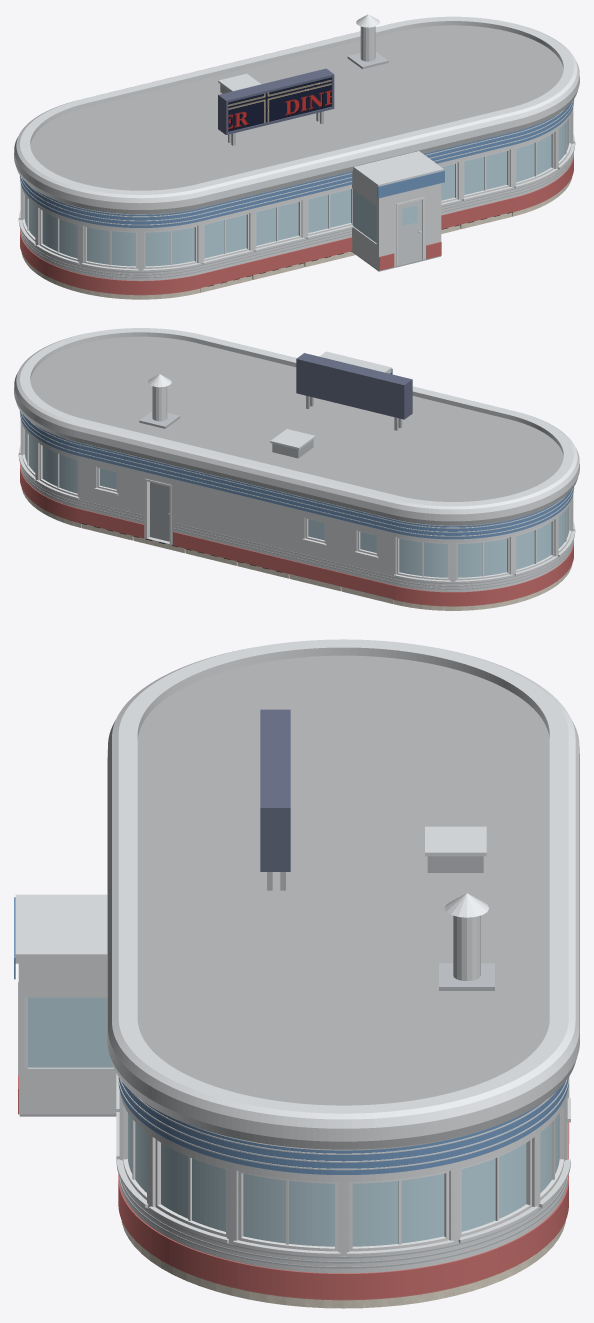
The model's file is building_assembled.glb.
3 views of the same model, one above another, from view 1: azimuth 30°, elevation 25°; view 2: azimuth 150°, elevation 25°; view 3: azimuth 270°, elevation 25° (orthographic). The views are drawn at different scales.
Visible parts, largest first — view 1: building_roof_flat, building_steel, building_glass, building_enamel_red, building_enamel, building_frame, building_sign, building_steel_dark, building_plaster, building_sign_frame, building_door; view 2: building_steel, building_roof_flat, building_enamel_red, building_enamel, building_glass, building_sign_frame, building_frame, building_steel_dark, building_plaster, building_door_service; view 3: building_roof_flat, building_steel, building_glass, building_enamel_red, building_enamel, building_frame, building_steel_dark, building_sign_frame, building_plaster.
Boxes of the visible parts, bbox=[...] form: building_roof_flat: bbox=[30, 25, 563, 190]; building_steel: bbox=[14, 14, 579, 280]; building_glass: bbox=[25, 119, 568, 266]; building_enamel_red: bbox=[20, 152, 573, 294]; building_enamel: bbox=[20, 99, 573, 227]; building_frame: bbox=[22, 114, 571, 268]; building_sign: bbox=[228, 77, 331, 131]; building_steel_dark: bbox=[20, 51, 573, 278]; building_plaster: bbox=[21, 177, 572, 299]; building_sign_frame: bbox=[218, 68, 334, 134]; building_door: bbox=[398, 199, 422, 264]; building_steel: bbox=[14, 328, 579, 592]; building_roof_flat: bbox=[30, 336, 563, 501]; building_enamel_red: bbox=[20, 463, 573, 605]; building_enamel: bbox=[20, 368, 573, 539]; building_glass: bbox=[25, 430, 568, 577]; building_sign_frame: bbox=[296, 353, 412, 419]; building_frame: bbox=[22, 425, 571, 580]; building_steel_dark: bbox=[20, 395, 573, 589]; building_plaster: bbox=[21, 488, 572, 610]; building_door_service: bbox=[150, 482, 169, 541]; building_roof_flat: bbox=[137, 655, 549, 1105]; building_steel: bbox=[15, 639, 579, 1273]; building_glass: bbox=[28, 997, 559, 1246]; building_enamel_red: bbox=[18, 1075, 568, 1299]; building_enamel: bbox=[14, 897, 568, 1174]; building_frame: bbox=[18, 963, 569, 1251]; building_steel_dark: bbox=[19, 856, 568, 1268]; building_sign_frame: bbox=[260, 709, 290, 871]; building_plaster: bbox=[121, 1220, 565, 1308].
Bounding box in the file's own units: 20.44 × 5.48 × 10.11.
Materials: 17 (3 with a texture image).
